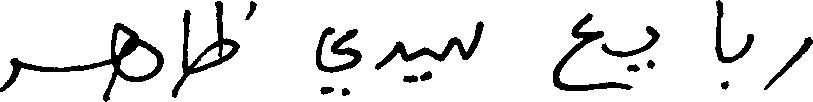X: (189, 0, 256, 79), (553, 8, 603, 95), (605, 21, 657, 94), (112, 18, 162, 91), (317, 22, 359, 100), (768, 32, 812, 92), (433, 16, 483, 66), (726, 29, 752, 93), (403, 39, 431, 87), (377, 36, 401, 74), (0, 53, 17, 96), (717, 0, 724, 93), (183, 0, 187, 101)
